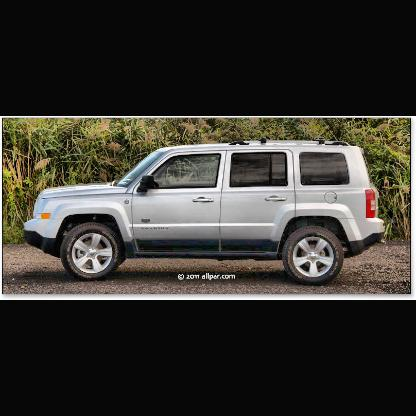Jeep Patriot SUV 2012: (25, 136, 387, 289)
